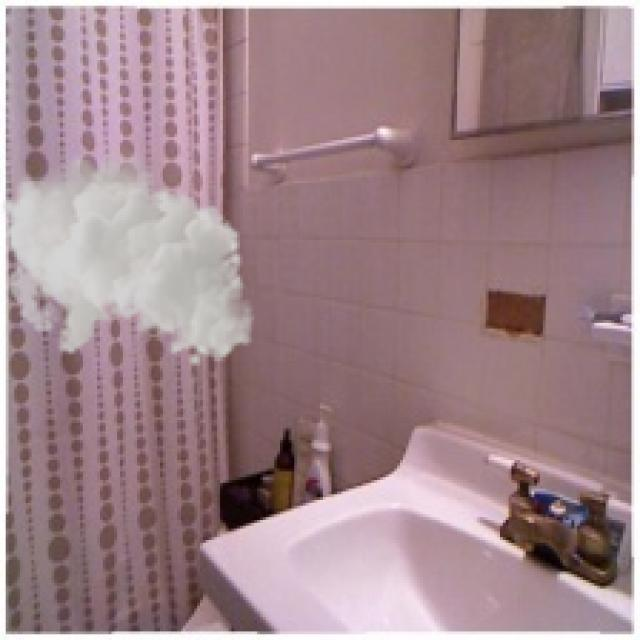Smoke: (0, 145, 255, 369)
